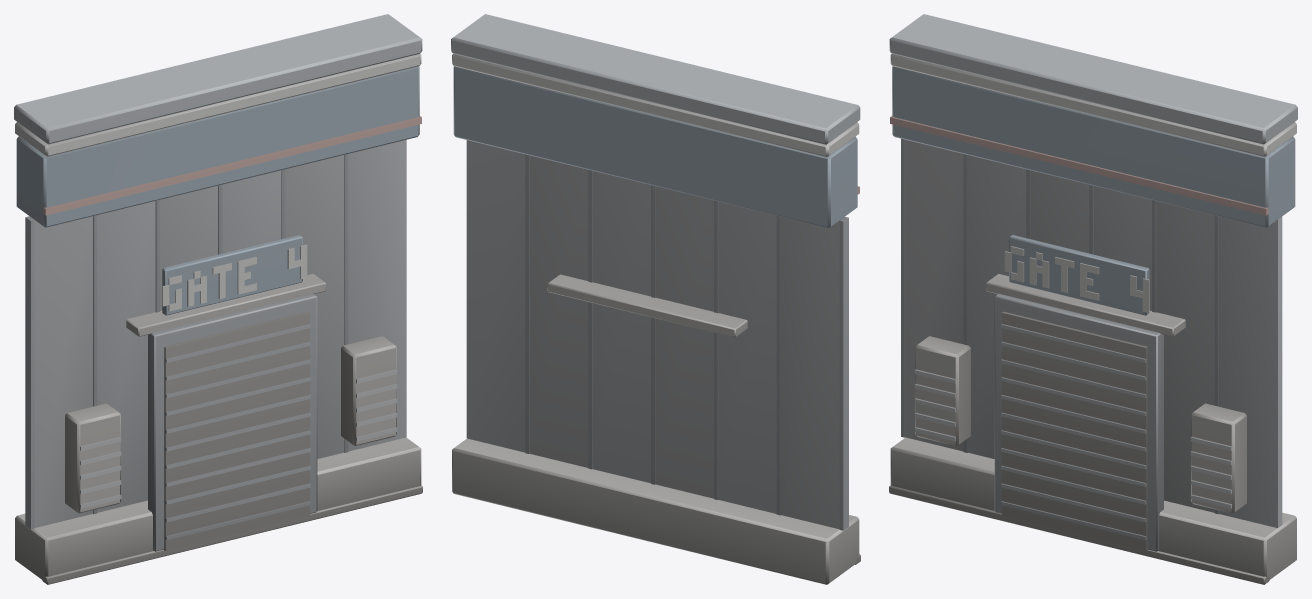
File: sback_gate.glb
3 renders of one model, left to right at view 1: azimuth 30°, elevation 25°; view 2: azimuth 150°, elevation 25°; view 3: azimuth 330°, elevation 25°, orthographic.
Parts seen in each view (by area): view 1: sback_gate.001; view 2: sback_gate.001; view 3: sback_gate.001.
Part boxes in pixels (x1=…): sback_gate.001: x1=14, y1=14, x2=422, y2=584; sback_gate.001: x1=451, y1=14, x2=860, y2=584; sback_gate.001: x1=889, y1=14, x2=1297, y2=584.
Size of the model in its own units: 6.03 by 6.95 by 1.05.
